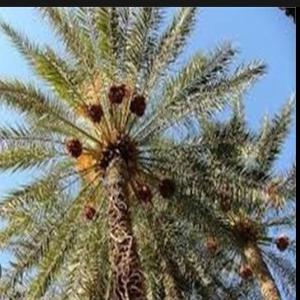palm tree: (0, 5, 296, 299)
